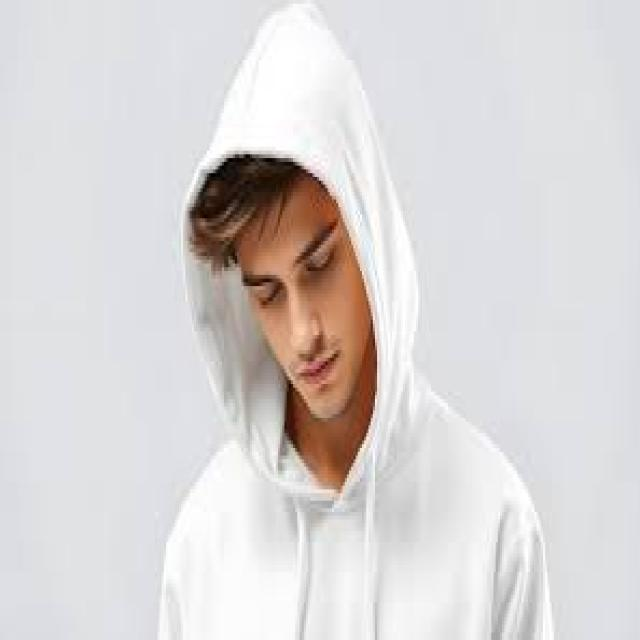4_capucha: (177, 0, 420, 508)
